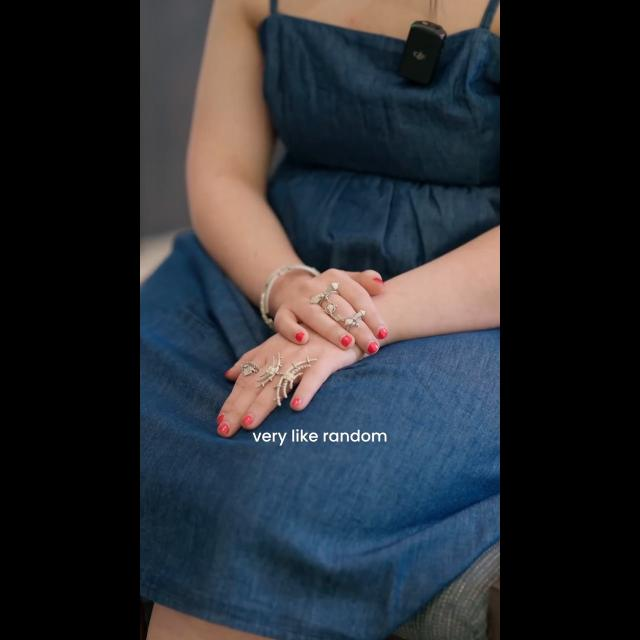dress: (155, 0, 498, 622)
ring: (262, 348, 306, 400), (316, 288, 364, 330), (240, 358, 256, 377)
